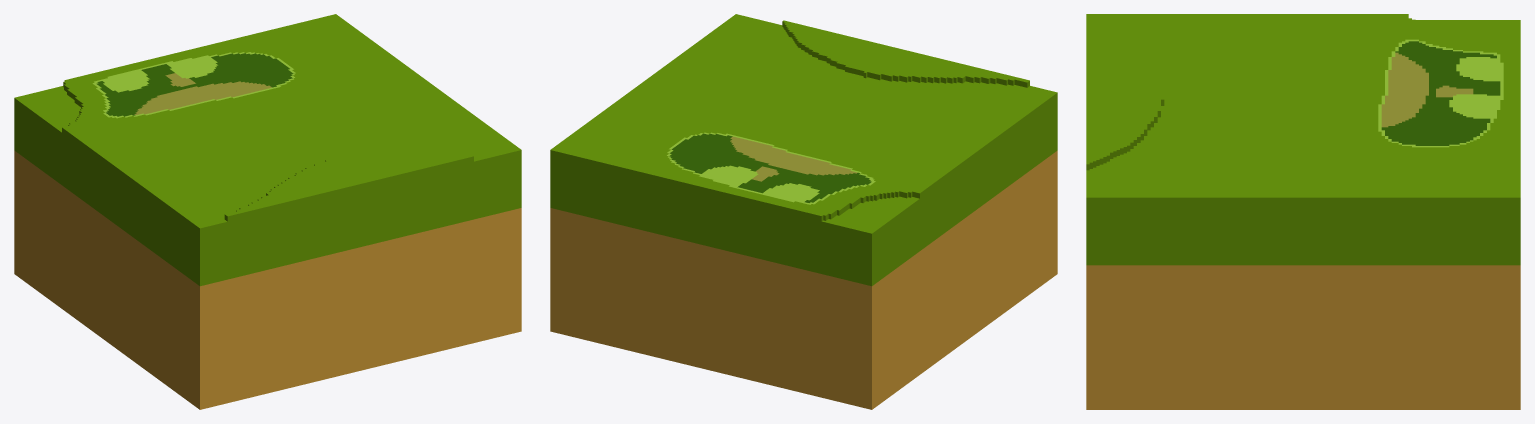
3 views of the same model, side by side, from view 1: azimuth 30°, elevation 25°; view 2: azimuth 150°, elevation 25°; view 3: azimuth 270°, elevation 25° (orthographic). The views are drawn at different scales.
Parts seen in each view (by area): view 1: 15H; view 2: 15H; view 3: 15H.
Boxes of the visible parts, left/top/right/bottom form: 15H: left=14, top=14, right=521, bottom=409; 15H: left=550, top=14, right=1057, bottom=409; 15H: left=1086, top=14, right=1520, bottom=409.
Bounding box in the file's own units: 12.8 × 7.1 × 12.8.
1 material, 1 textured.
